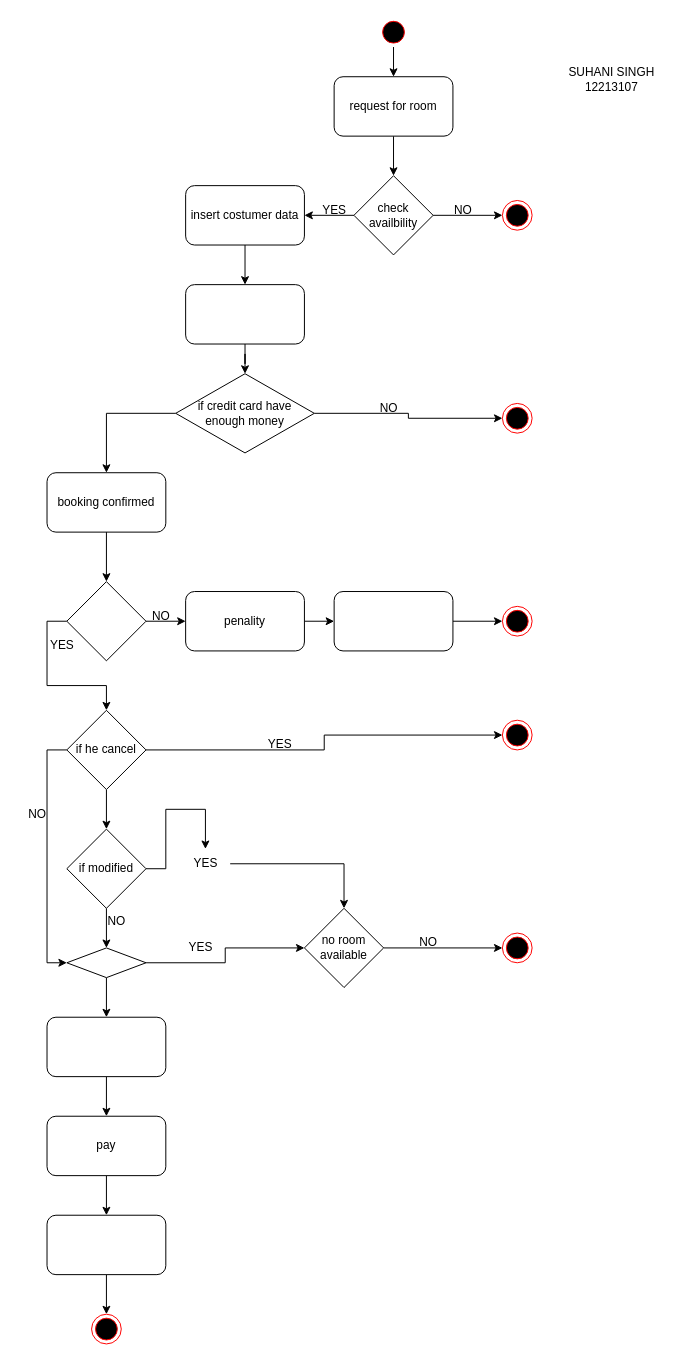
Image size: 682x1361. Some labels were removed from this diagram. The centre of each missing label's shape, as x and y in pixels:
"booking cancelled" goes at pixel 393 621.
"costumer used room" goes at pixel 106 1046.
"thankyou!" goes at pixel 106 1244.
"varification" goes at pixel 244 314.
"wait for costumer arrival" goes at pixel 106 621.
